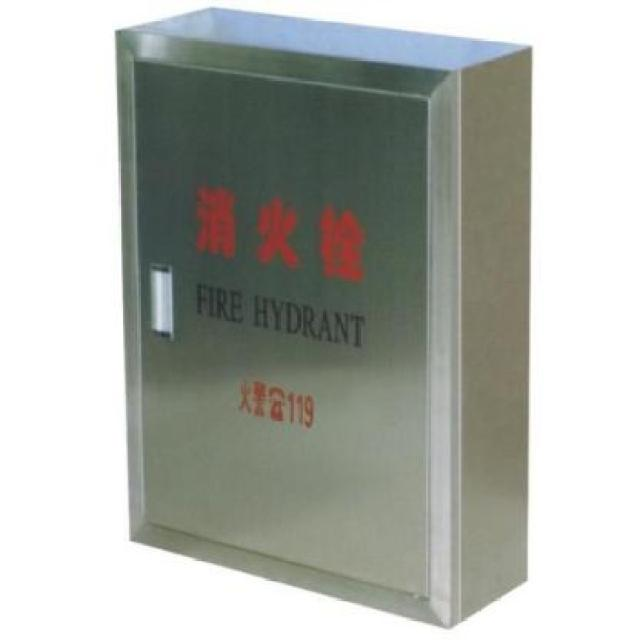firehydrant: (109, 3, 536, 635)
